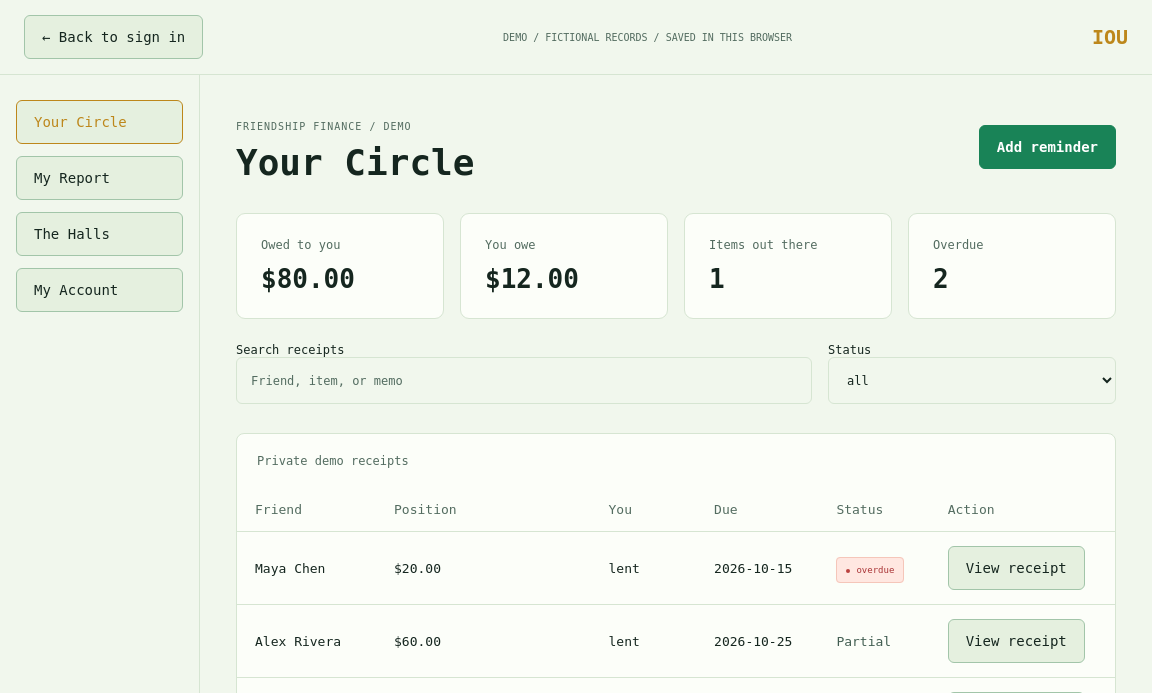
Test: native React local demo › adds an item reminder through labeled React form controls
Click the button "Add reminder": (1047, 147) x1=979 y1=125 x2=1116 y2=169
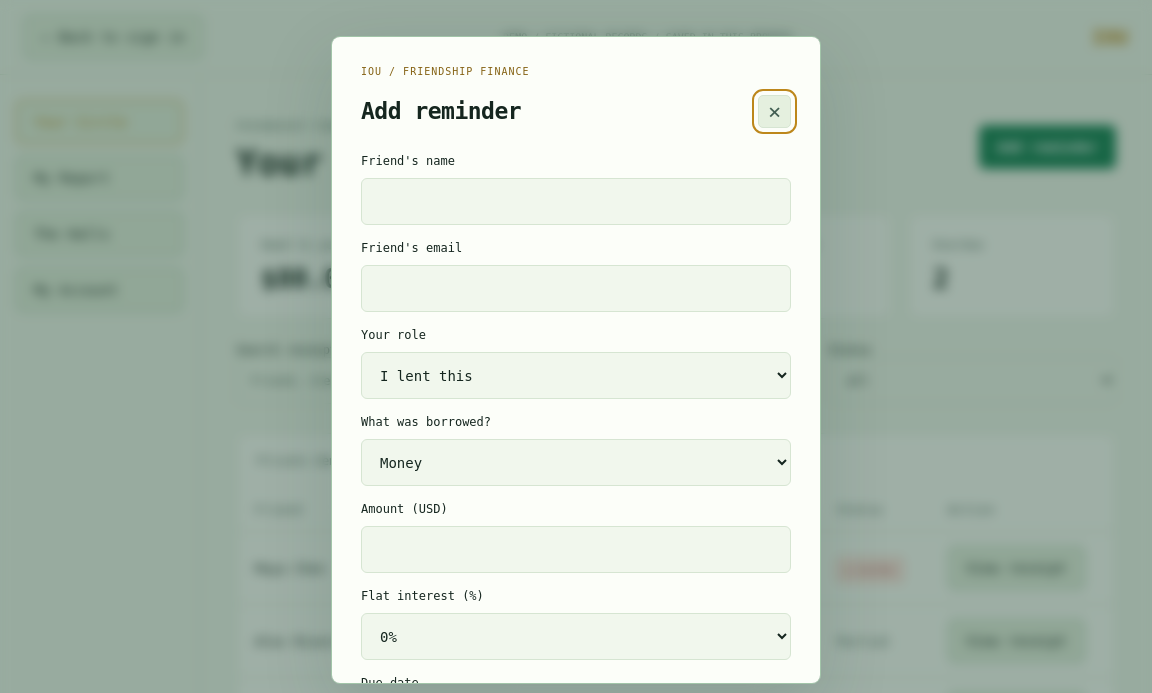
In the field labelled "Friend's name": (576, 202) x1=361 y1=178 x2=791 y2=225, type "Taylor"
In the field labelled "Friend's email": (576, 288) x1=361 y1=265 x2=791 y2=312, type "taylor@example.com"
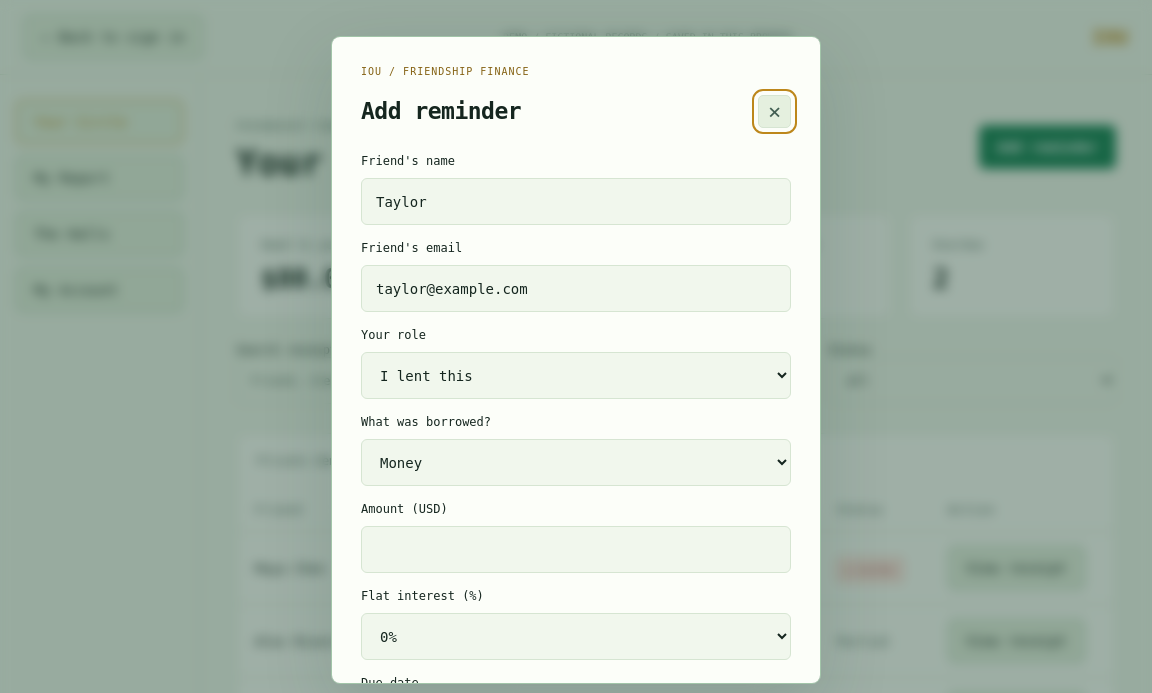
Select "An item" in the dropdown labelled "What was borrowed?": (576, 462) x1=361 y1=439 x2=791 y2=486
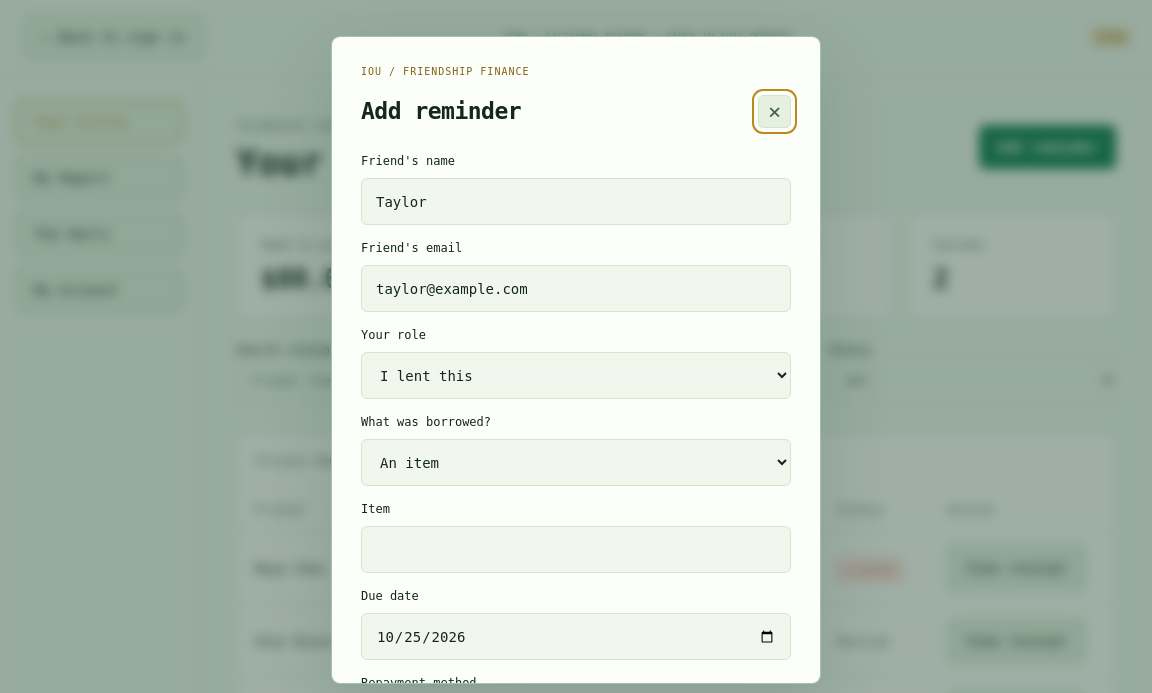
In the field labelled "Item": (576, 550) x1=361 y1=526 x2=791 y2=573, type "Spare charger"
(page scrolled)
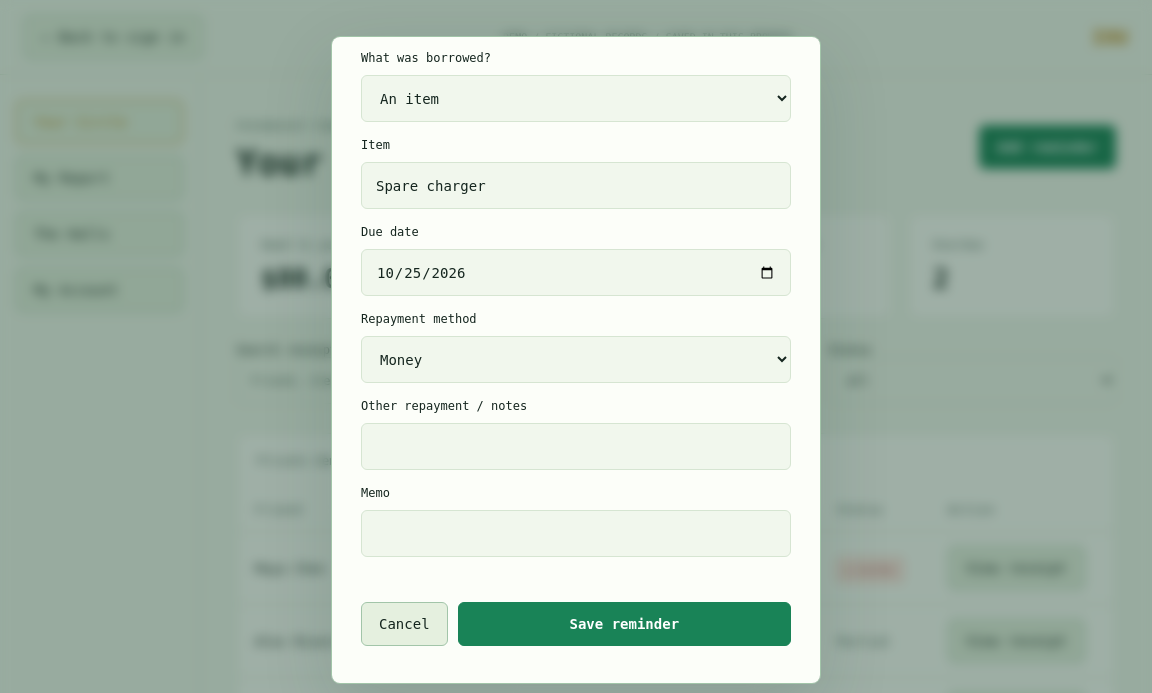
Select "Return the item" in the dropdown labelled "Repayment method": (576, 360) x1=361 y1=336 x2=791 y2=383
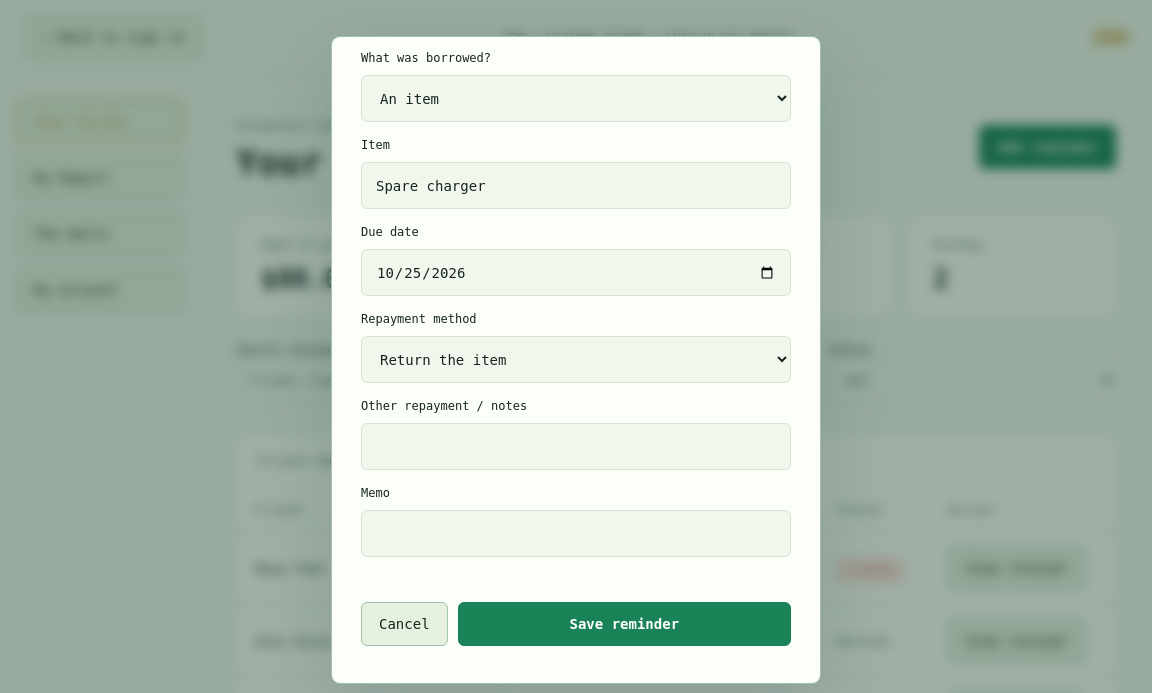
Click the button "Save reminder": (624, 624) x1=458 y1=602 x2=791 y2=646
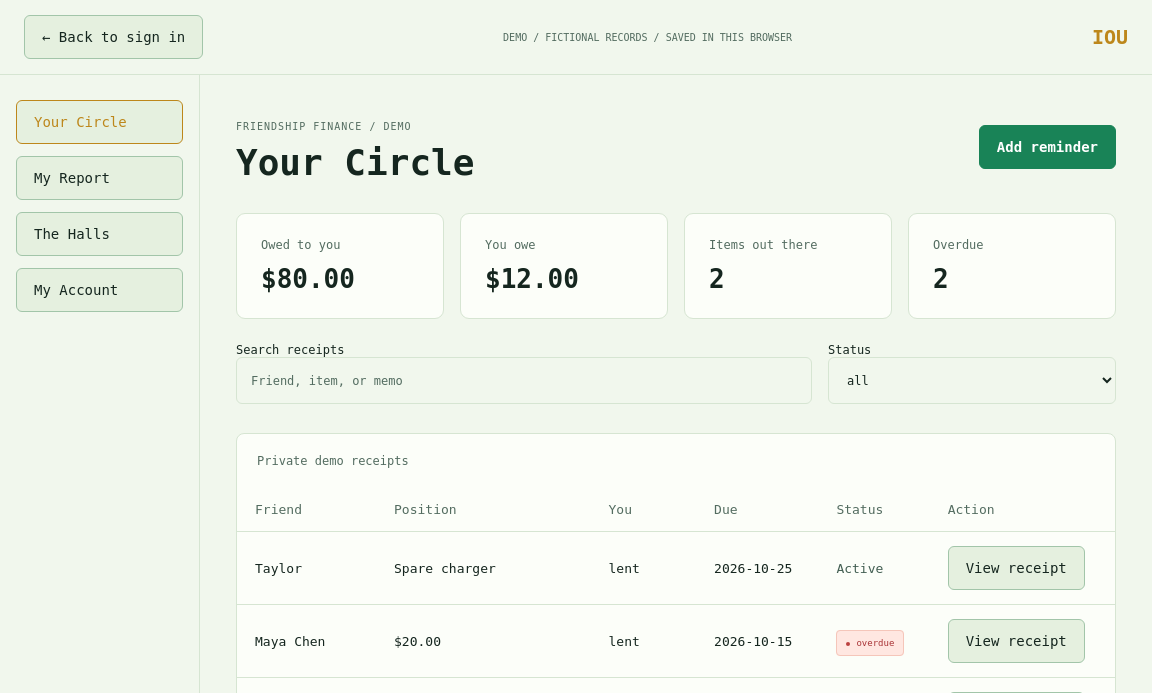
Expected: the text "Spare charger" is shown, x1=376 y1=532 x2=590 y2=604
